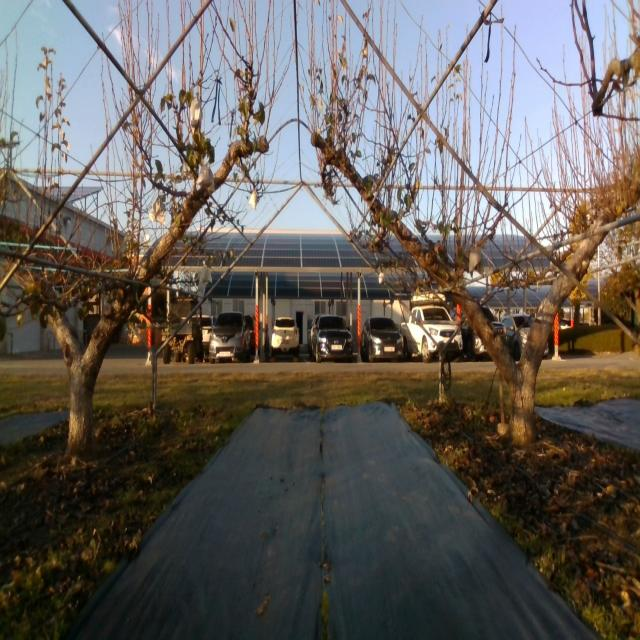pearbags: (197, 165, 216, 192), (150, 196, 165, 225), (469, 251, 484, 278), (190, 98, 203, 128), (200, 265, 212, 282)
